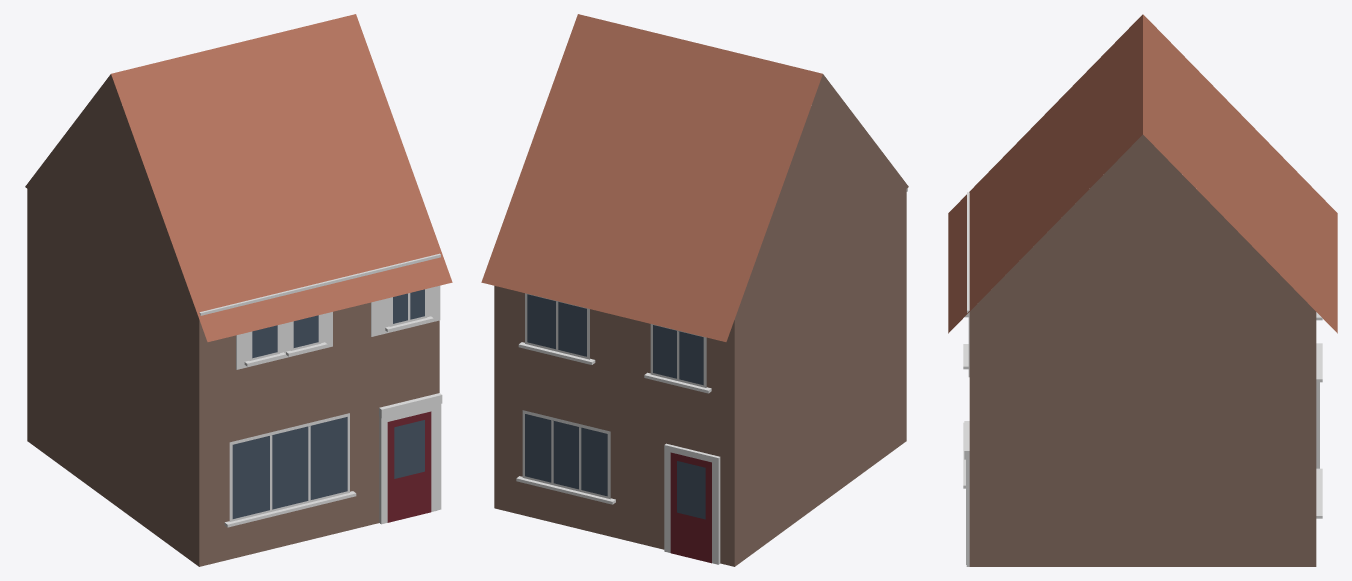
Rendered from nn-band__panels__2__gable__long__solid__mirror.glb.
3 renders of one model, left to right at view 1: azimuth 30°, elevation 25°; view 2: azimuth 150°, elevation 25°; view 3: azimuth 270°, elevation 25°, orthographic.
Visible parts, largest first — view 1: nn-band__panels__2__gable__long__solid__mirror; view 2: nn-band__panels__2__gable__long__solid__mirror; view 3: nn-band__panels__2__gable__long__solid__mirror.
Part boxes in pixels (bbox=[...]): nn-band__panels__2__gable__long__solid__mirror: bbox=[25, 14, 452, 566]; nn-band__panels__2__gable__long__solid__mirror: bbox=[481, 14, 908, 566]; nn-band__panels__2__gable__long__solid__mirror: bbox=[948, 14, 1337, 566].
Bounding box in the file's own units: 5.34 × 8.97 × 7.29.
